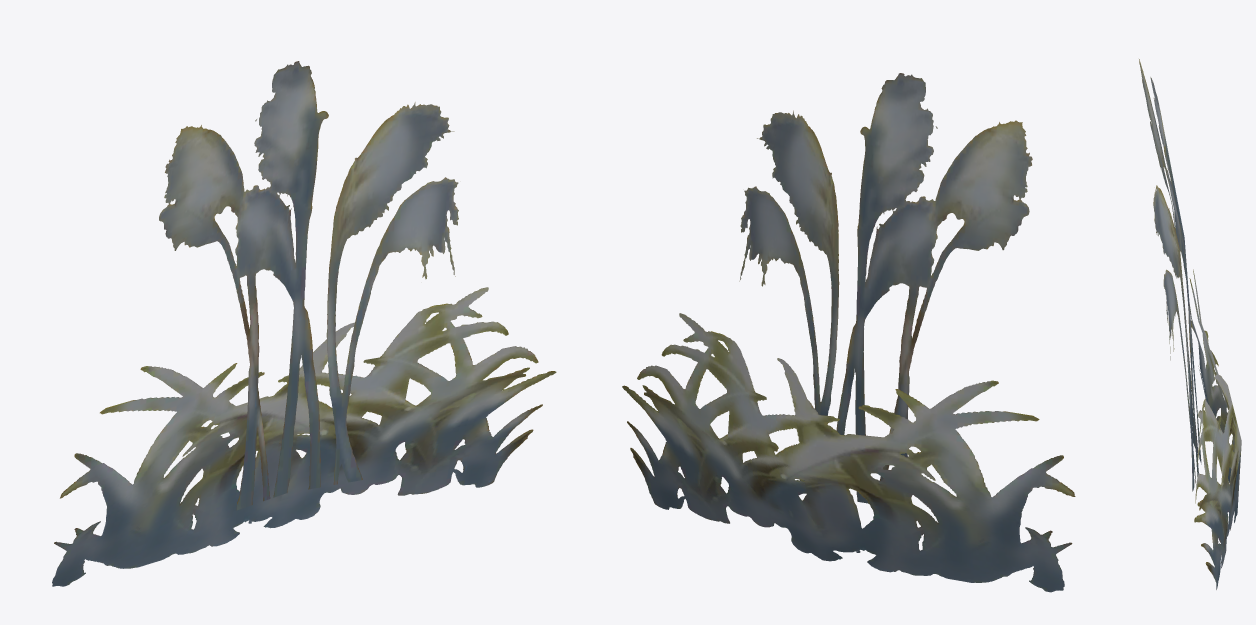
File: map_114_shu_10.fbx
The picture shows the model from 3 angles, left to right: view 1: azimuth 30°, elevation 25°; view 2: azimuth 150°, elevation 25°; view 3: azimuth 270°, elevation 25°; orthographic projection. The views are drawn at different scales.
Visible parts, largest first — view 1: map_114_shu_10; view 2: map_114_shu_10; view 3: map_114_shu_10.
Boxes of the visible parts, x1,y1,x2,y2 form: map_114_shu_10: [52, 61, 556, 586]; map_114_shu_10: [622, 73, 1075, 592]; map_114_shu_10: [1139, 59, 1241, 589].
Bounding box in the file's own units: 0.9178 × 0.8233 × 0.1988.
